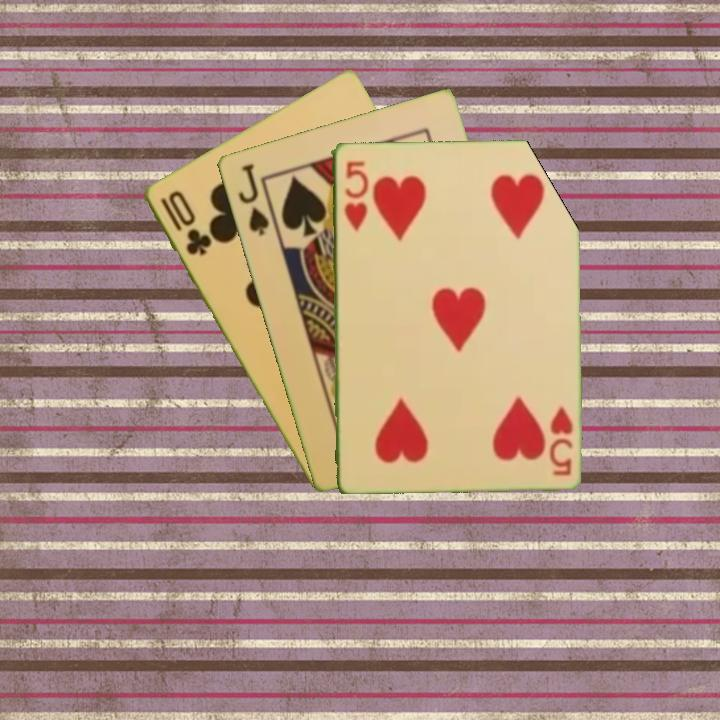10c: (156, 186, 214, 258)
5h: (340, 157, 369, 233), (546, 402, 575, 478)
Js: (234, 160, 272, 238)
